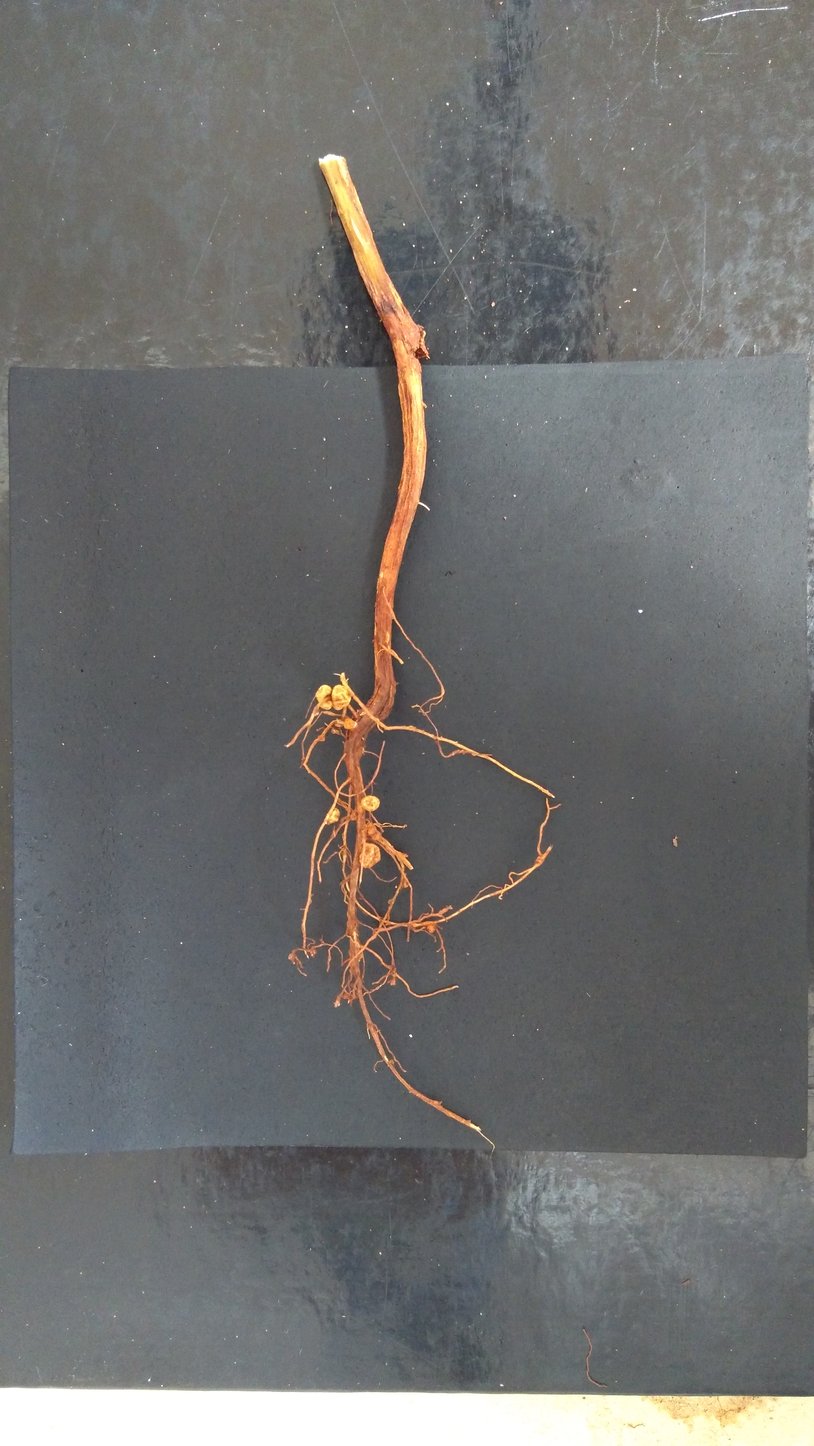nodule: (313, 681, 335, 712), (331, 682, 352, 713), (358, 841, 381, 869), (359, 794, 382, 813), (323, 808, 343, 826), (366, 824, 382, 841), (342, 716, 357, 732), (426, 923, 435, 934)
